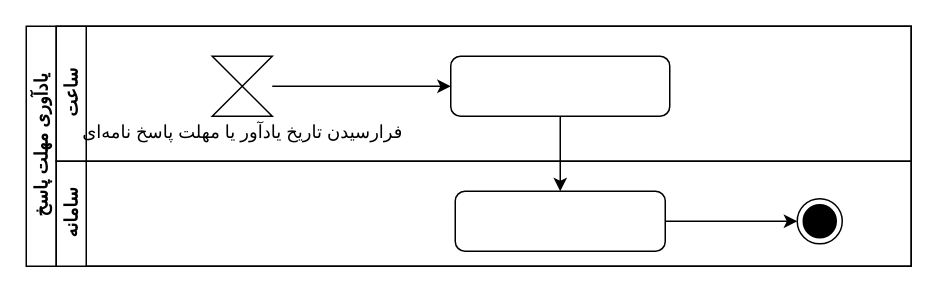
This 938x293 diagram has some shape labels left out. The shapes that lost their labels are listed below. From the top down, each one's centre as x and y in pixels, then its label:
(x=559, y=85): درخواست ارسال اعلان یادآور به کاربر
(x=559, y=220): ارسال اعلان یادآور به کاربر
